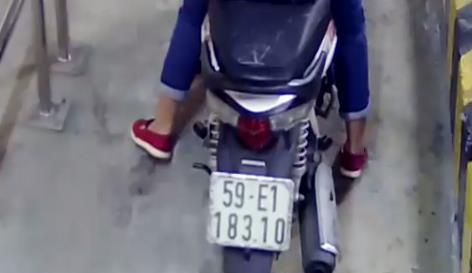lisence: (206, 172, 294, 251)
